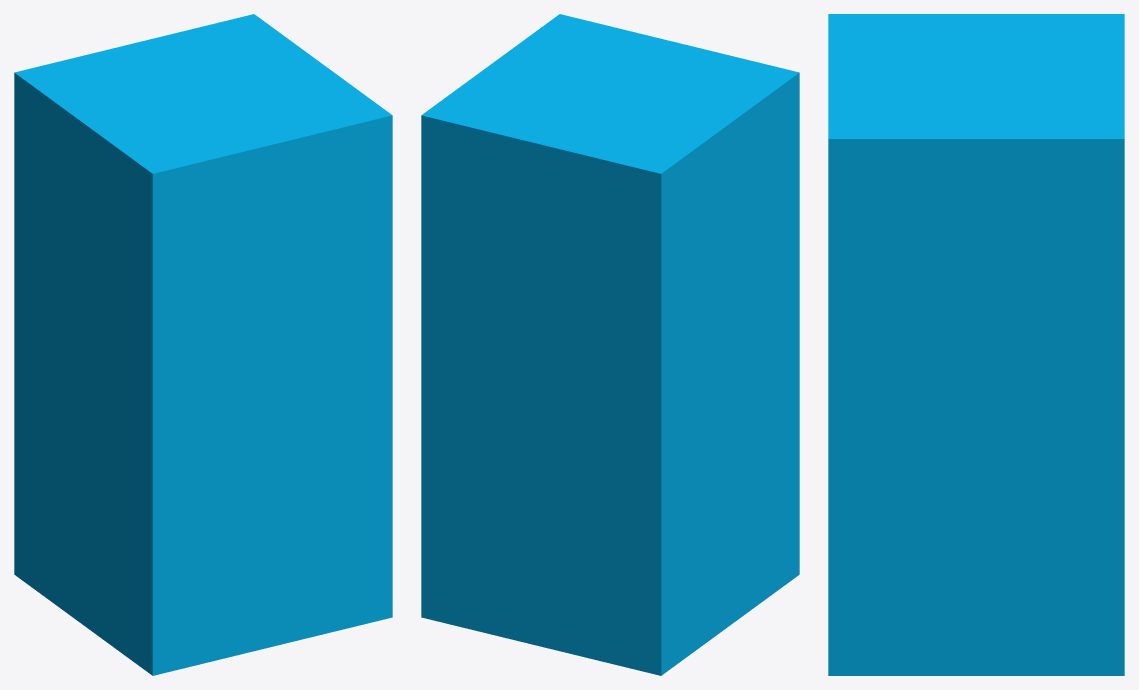
Rendered from indexed_lt_Z_neg1_yazi.gltf.
The picture shows the model from 3 angles, left to right: view 1: azimuth 30°, elevation 25°; view 2: azimuth 150°, elevation 25°; view 3: azimuth 270°, elevation 25°; orthographic projection. The views are drawn at different scales.
Parts seen in each view (by area): view 1: Gövde; view 2: Gövde; view 3: Gövde.
Boxes of the visible parts, x1,y1,x2,y2 form: Gövde: (14, 14, 392, 675); Gövde: (421, 14, 799, 675); Gövde: (828, 14, 1124, 675).
Size of the model in its own units: 0.005 by 0.01 by 0.005.
